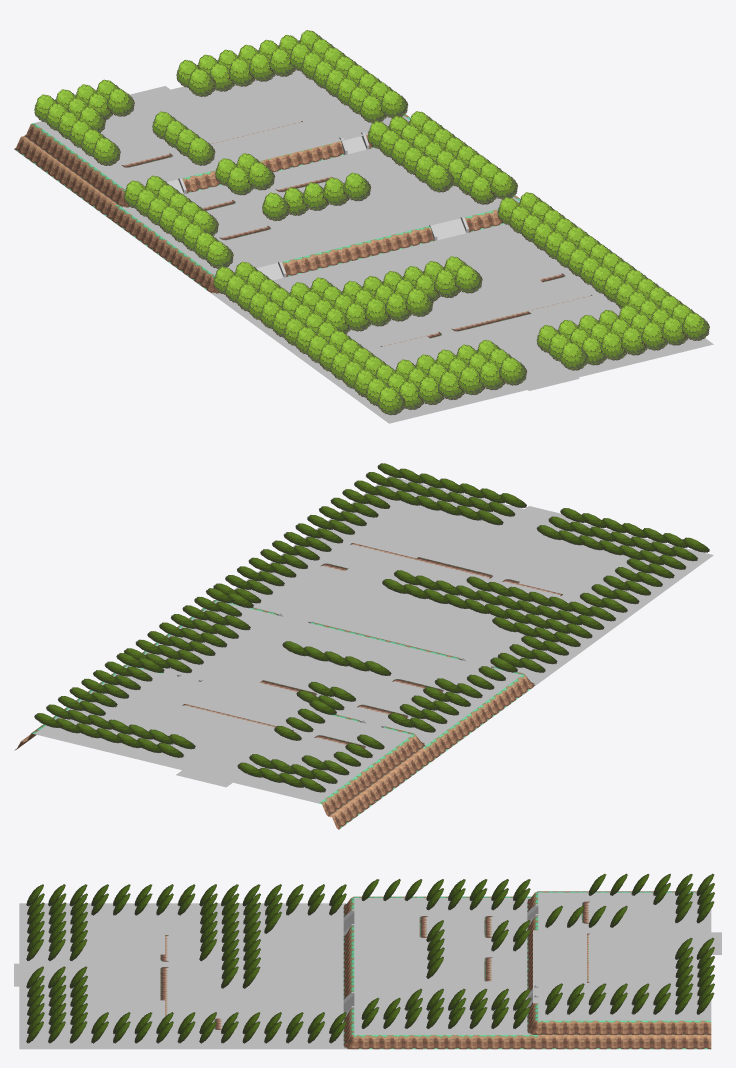
File: Route1.fbx
The picture shows the model from 3 angles, top to bottom: view 1: azimuth 30°, elevation 25°; view 2: azimuth 150°, elevation 25°; view 3: azimuth 270°, elevation 25°; orthographic projection. The views are drawn at different scales.
Parts seen in each view (by area): view 1: Trees, map32_10c.002, Grass; view 2: map32_10c.002, Trees, Grass; view 3: map32_10c.002, Trees, Grass.
Part boxes in pixels (x1=…): Trees: x1=34, y1=30, x2=709, y2=415; map32_10c.002: x1=14, y1=69, x2=713, y2=423; Grass: x1=208, y1=110, x2=620, y2=390; map32_10c.002: x1=14, y1=476, x2=713, y2=829; Trees: x1=34, y1=463, x2=709, y2=792; Grass: x1=137, y1=506, x2=637, y2=731; map32_10c.002: x1=19, y1=891, x2=721, y2=1049; Trees: x1=26, y1=873, x2=714, y2=1043; Grass: x1=14, y1=918, x2=586, y2=1032.
Size of the model in its own units: 272 by 41.21 by 524.
